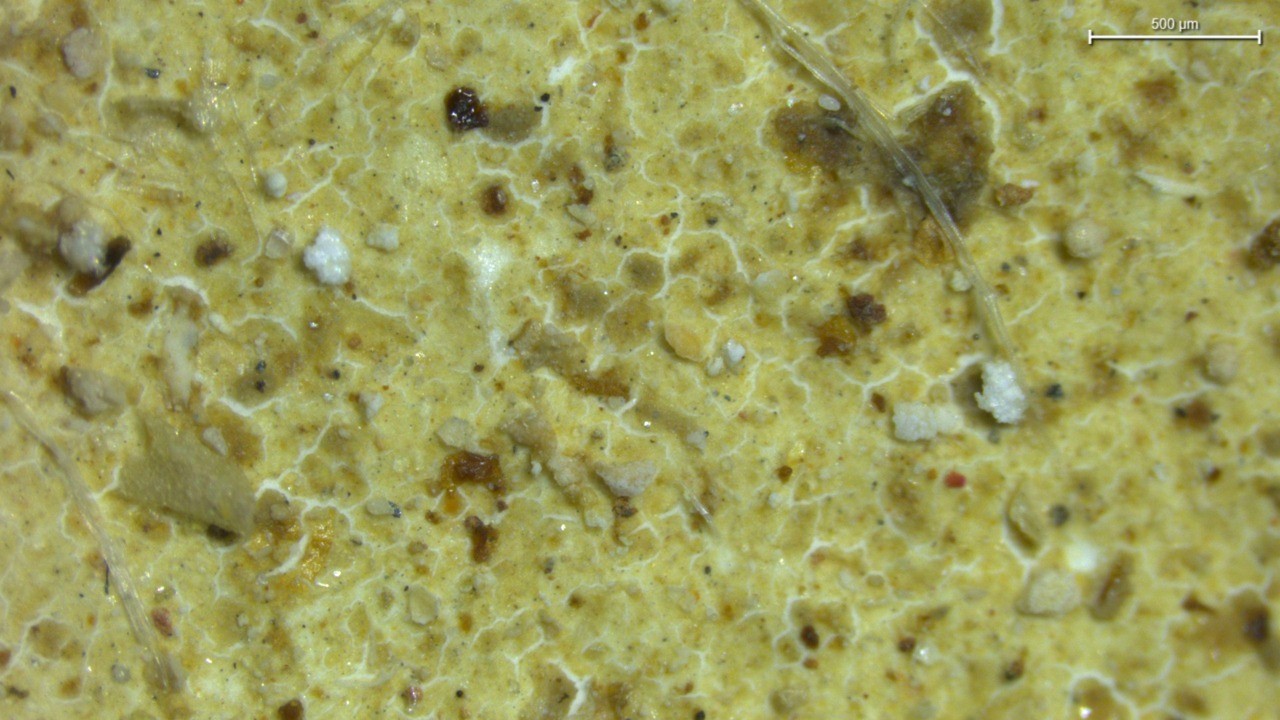microplastic_fragment: (974, 361, 1027, 424), (302, 226, 351, 285), (892, 402, 963, 441), (596, 461, 657, 497)
